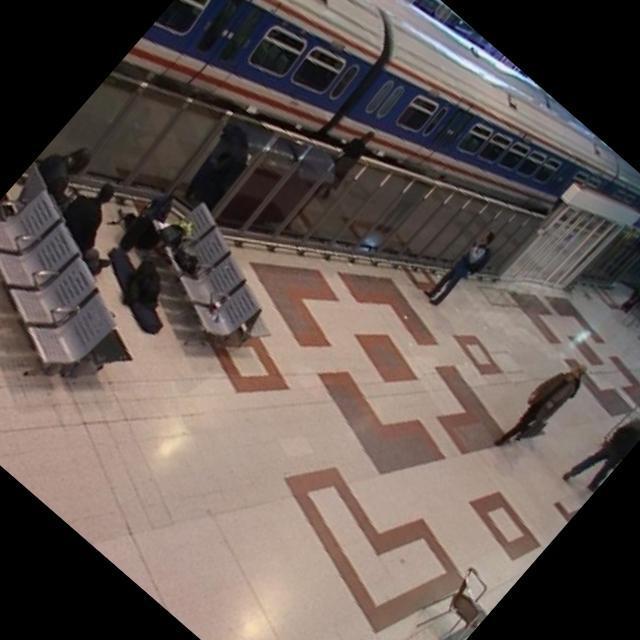person: (485, 344, 601, 468), (555, 391, 640, 503), (417, 222, 509, 321)
